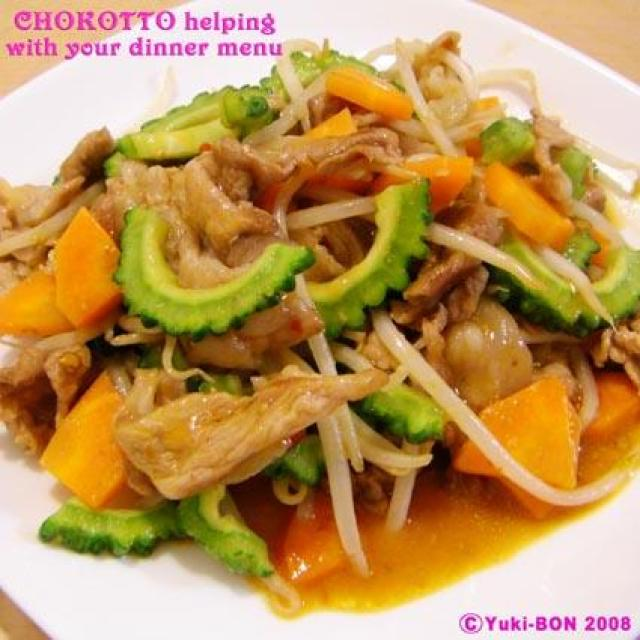熟制海鲜: (0, 31, 635, 613)
